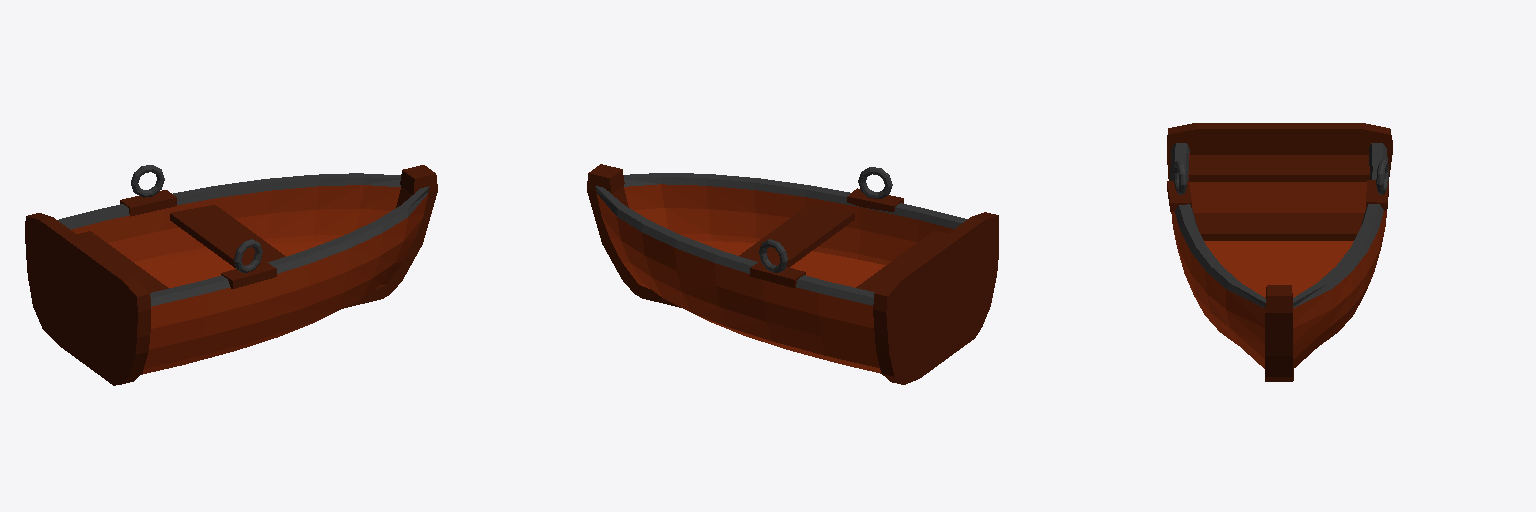
The model's file is Small_Boat.obj.
The picture shows the model from 3 angles: view 1: azimuth 30°, elevation 25°; view 2: azimuth 150°, elevation 25°; view 3: azimuth 270°, elevation 25°; orthographic projection.
Parts seen in each view (by area): view 1: Small_Boat; view 2: Small_Boat; view 3: Small_Boat.
Part boxes in pixels (x1,y1,x2,y2): Small_Boat: (25,165,437,385); Small_Boat: (587,164,998,384); Small_Boat: (1167,123,1392,381).
Bounding box in the file's own units: 8.6 × 3.14 × 4.82.